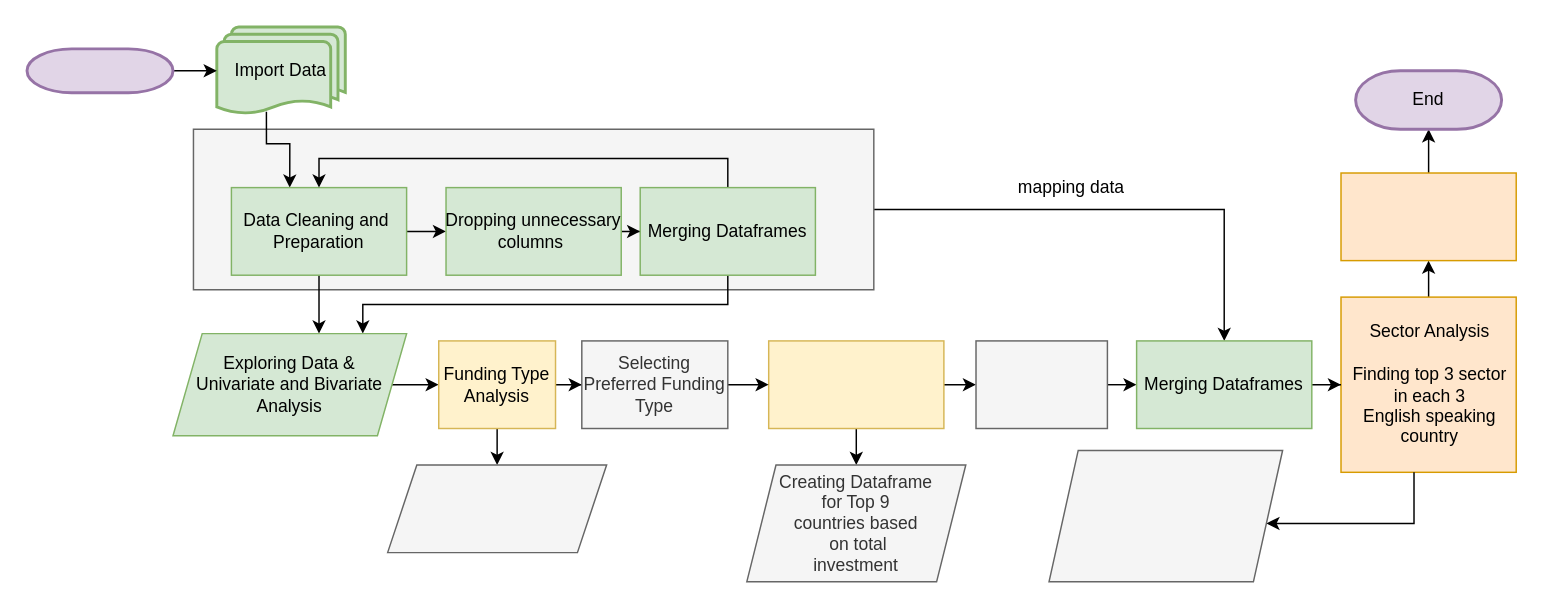
Image size: 1542x607. Some labels were removed from this diagram. Here are the shapes that lost their labels. From the top down, the box of each, then its label:
(25, 47, 174, 93): Start
(1340, 172, 1516, 261): Generating Graphs and Tables to summarize the analysis
(767, 339, 944, 429): Country Analysis
(975, 339, 1107, 429): Selecting Top 3 English Speaking Country
(386, 464, 607, 553): Creating Separate Dataframe for reference
(1048, 449, 1283, 582): Creating Dataframe based on Sparks Investment Range with 3 Different countries
